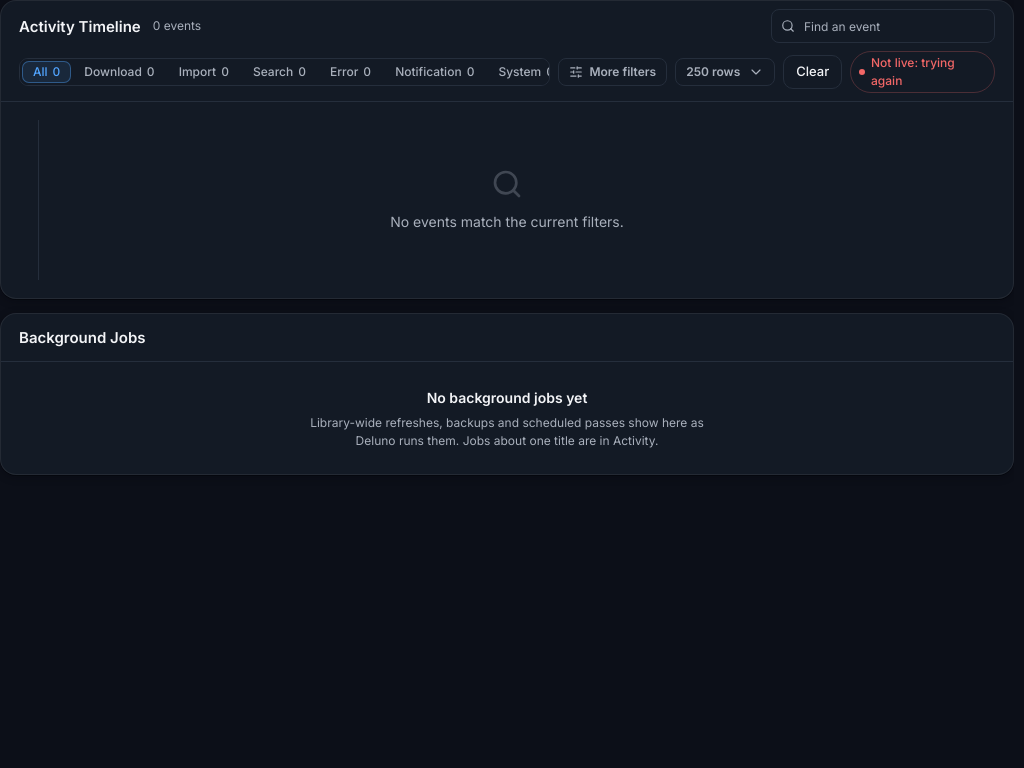
Test: Clearing the Activity timeline asks first › keeps the timeline and says why when the clear is refused
Click the button "Clear": click(813, 72) [783, 55, 842, 89]
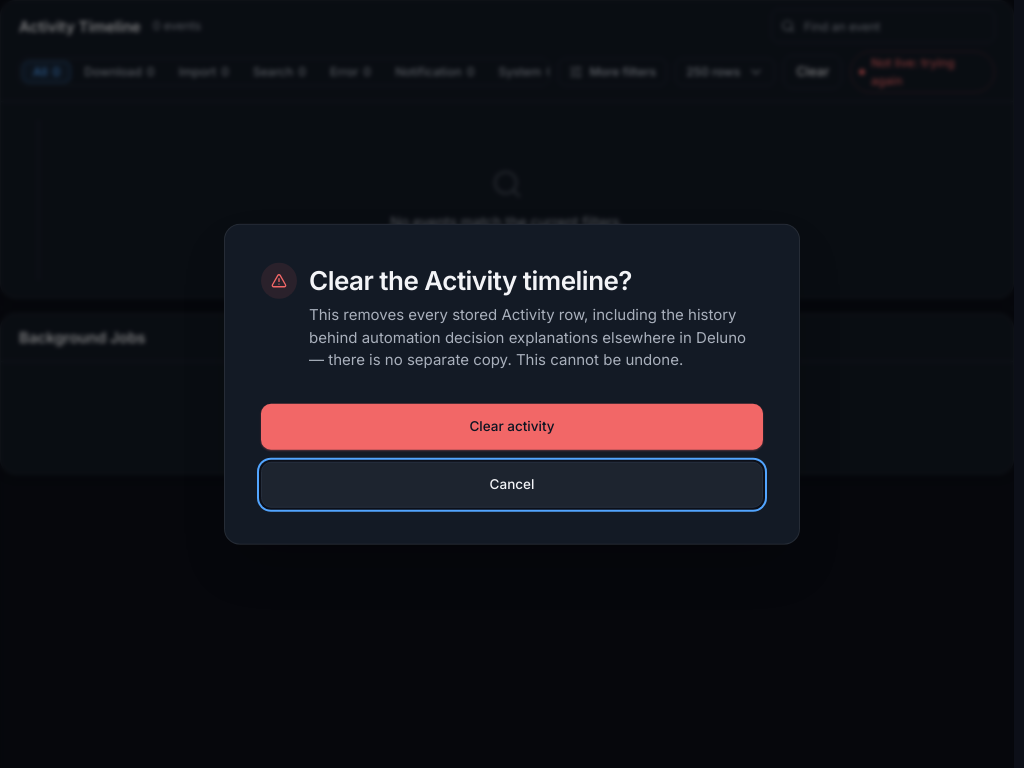
Click the button "Clear activity": click(512, 426) [261, 403, 763, 449]
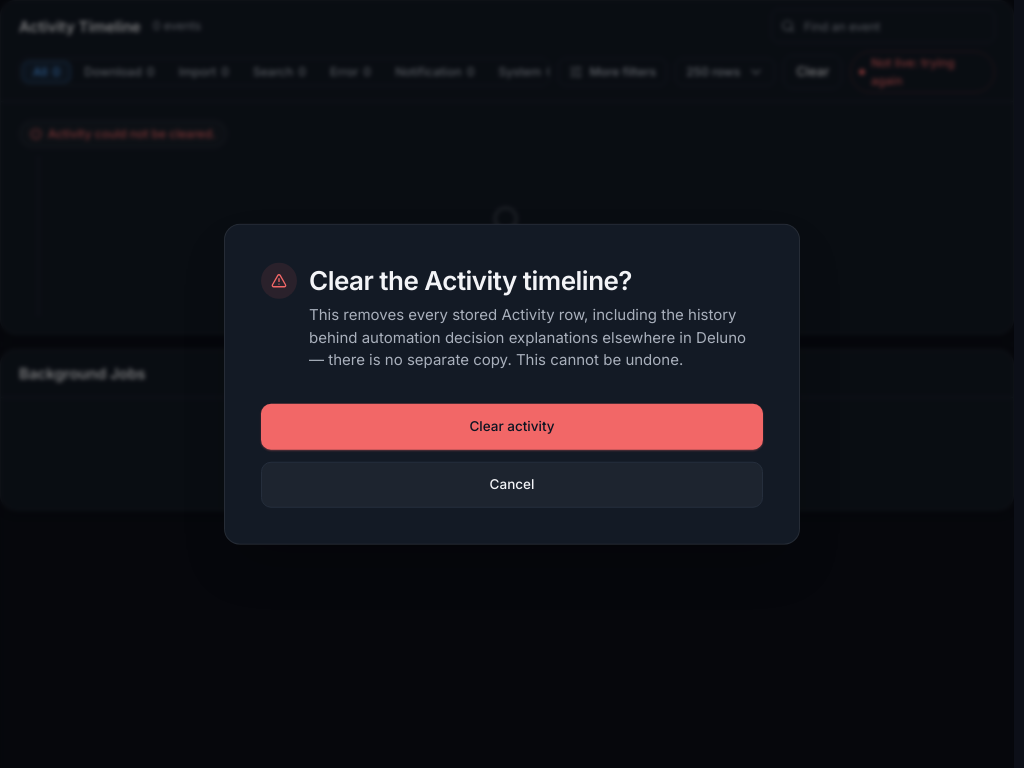
Expected: the text "Activity could not be cleared." is shown, [19, 120, 227, 148]
